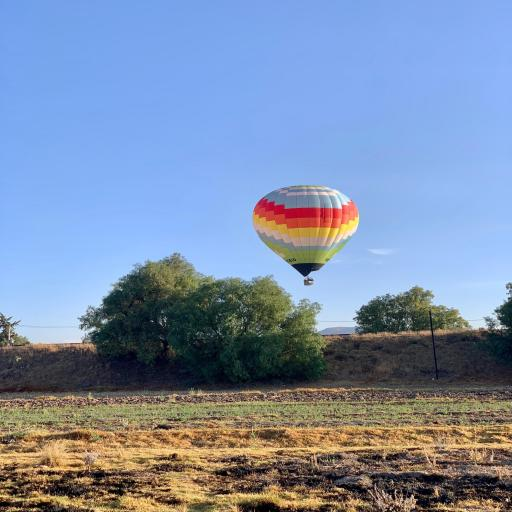hot air ballon: (253, 185, 359, 286)
